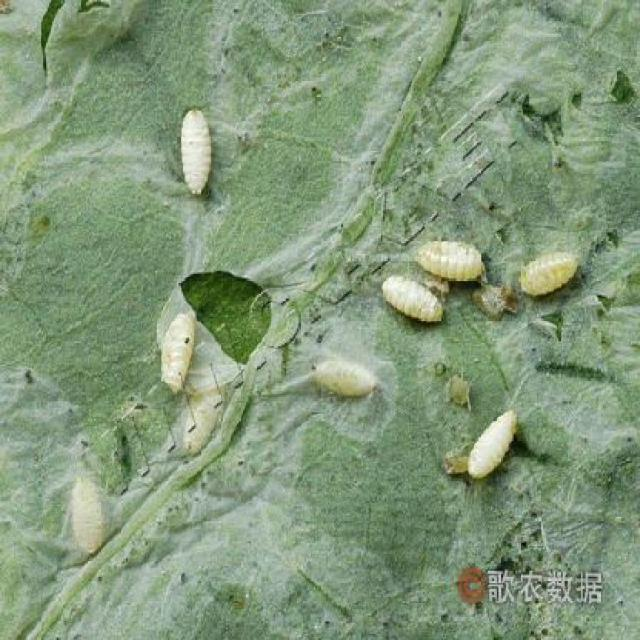whorl-maggot: (462, 392, 518, 492), (63, 464, 115, 564), (380, 260, 445, 332), (512, 243, 585, 305), (308, 348, 383, 408), (409, 232, 491, 280), (176, 102, 215, 200)
